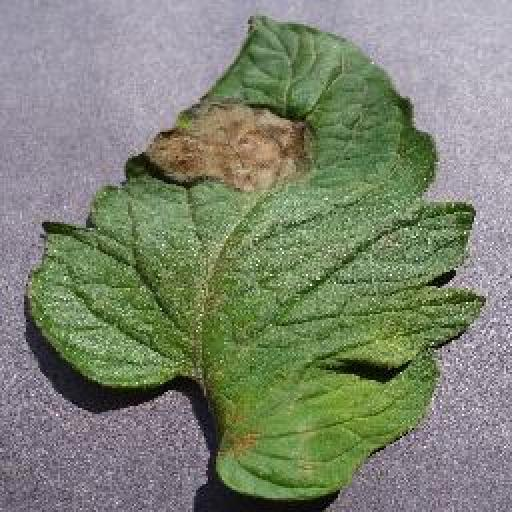disease_tomato: (24, 13, 488, 496)
